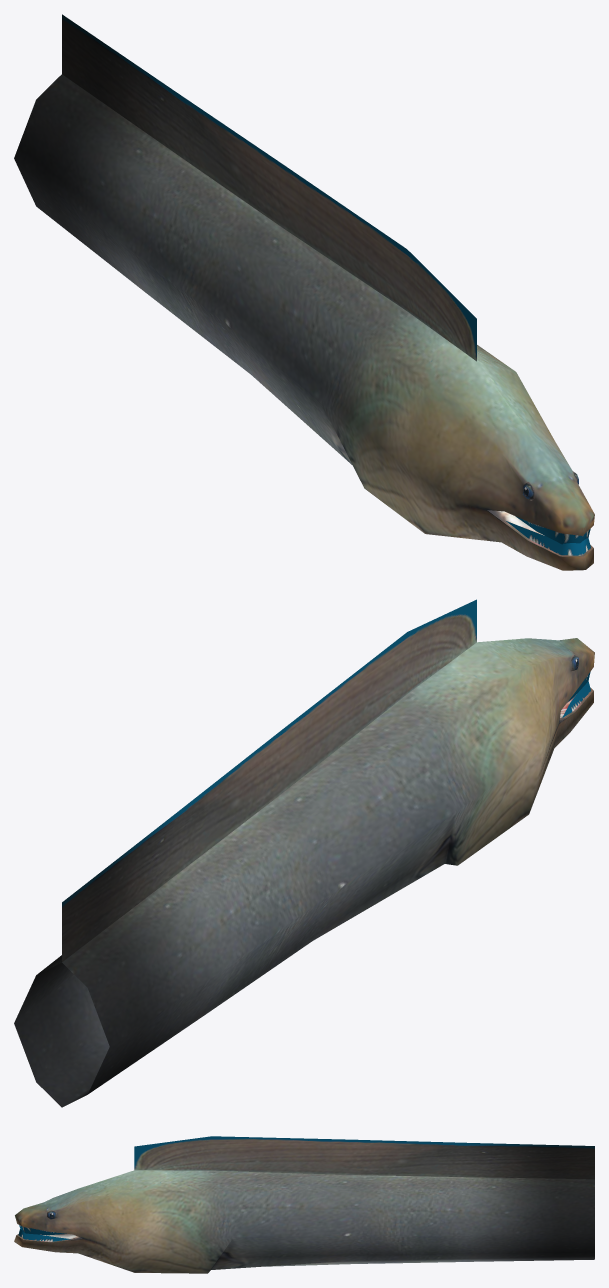
Rendered from Eel.fbx.
3 views of the same model, one above another, from view 1: azimuth 30°, elevation 25°; view 2: azimuth 150°, elevation 25°; view 3: azimuth 270°, elevation 25° (orthographic). The views are drawn at different scales.
Visible parts, largest first — view 1: eel, alpha; view 2: eel, alpha; view 3: eel, alpha.
Boxes of the visible parts, x1,y1,x2,y2 form: eel: [14, 74, 594, 570]; alpha: [62, 14, 590, 555]; eel: [14, 638, 594, 1107]; alpha: [62, 599, 590, 961]; eel: [14, 1170, 594, 1273]; alpha: [18, 1136, 594, 1241].
Bounding box in the file's own units: 22.28 × 38.26 × 149.
